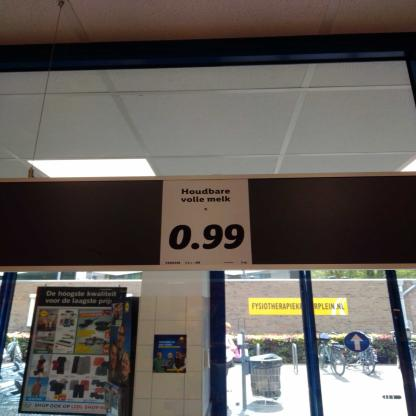prtg: (161, 180, 254, 266)
